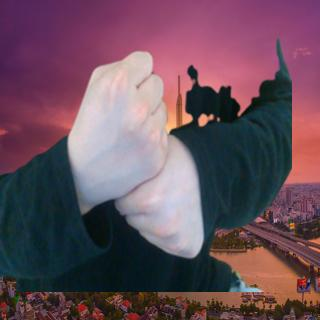CAREFUL: (69, 42, 206, 265)
